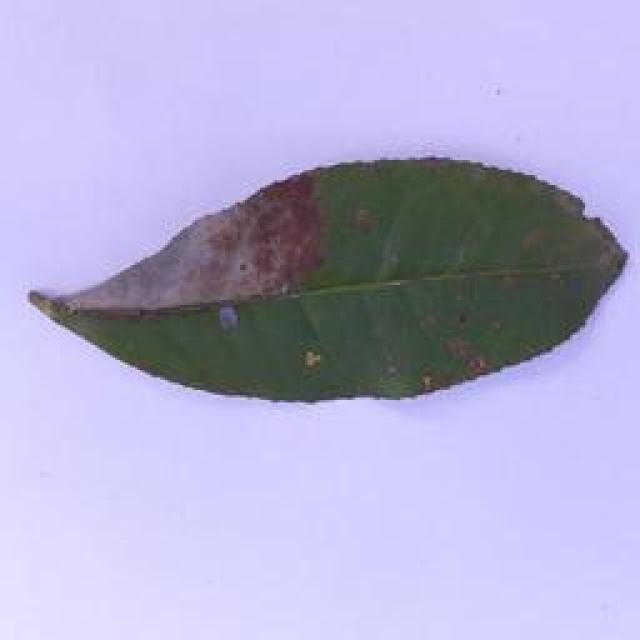Gray Blight: (20, 147, 637, 407)
